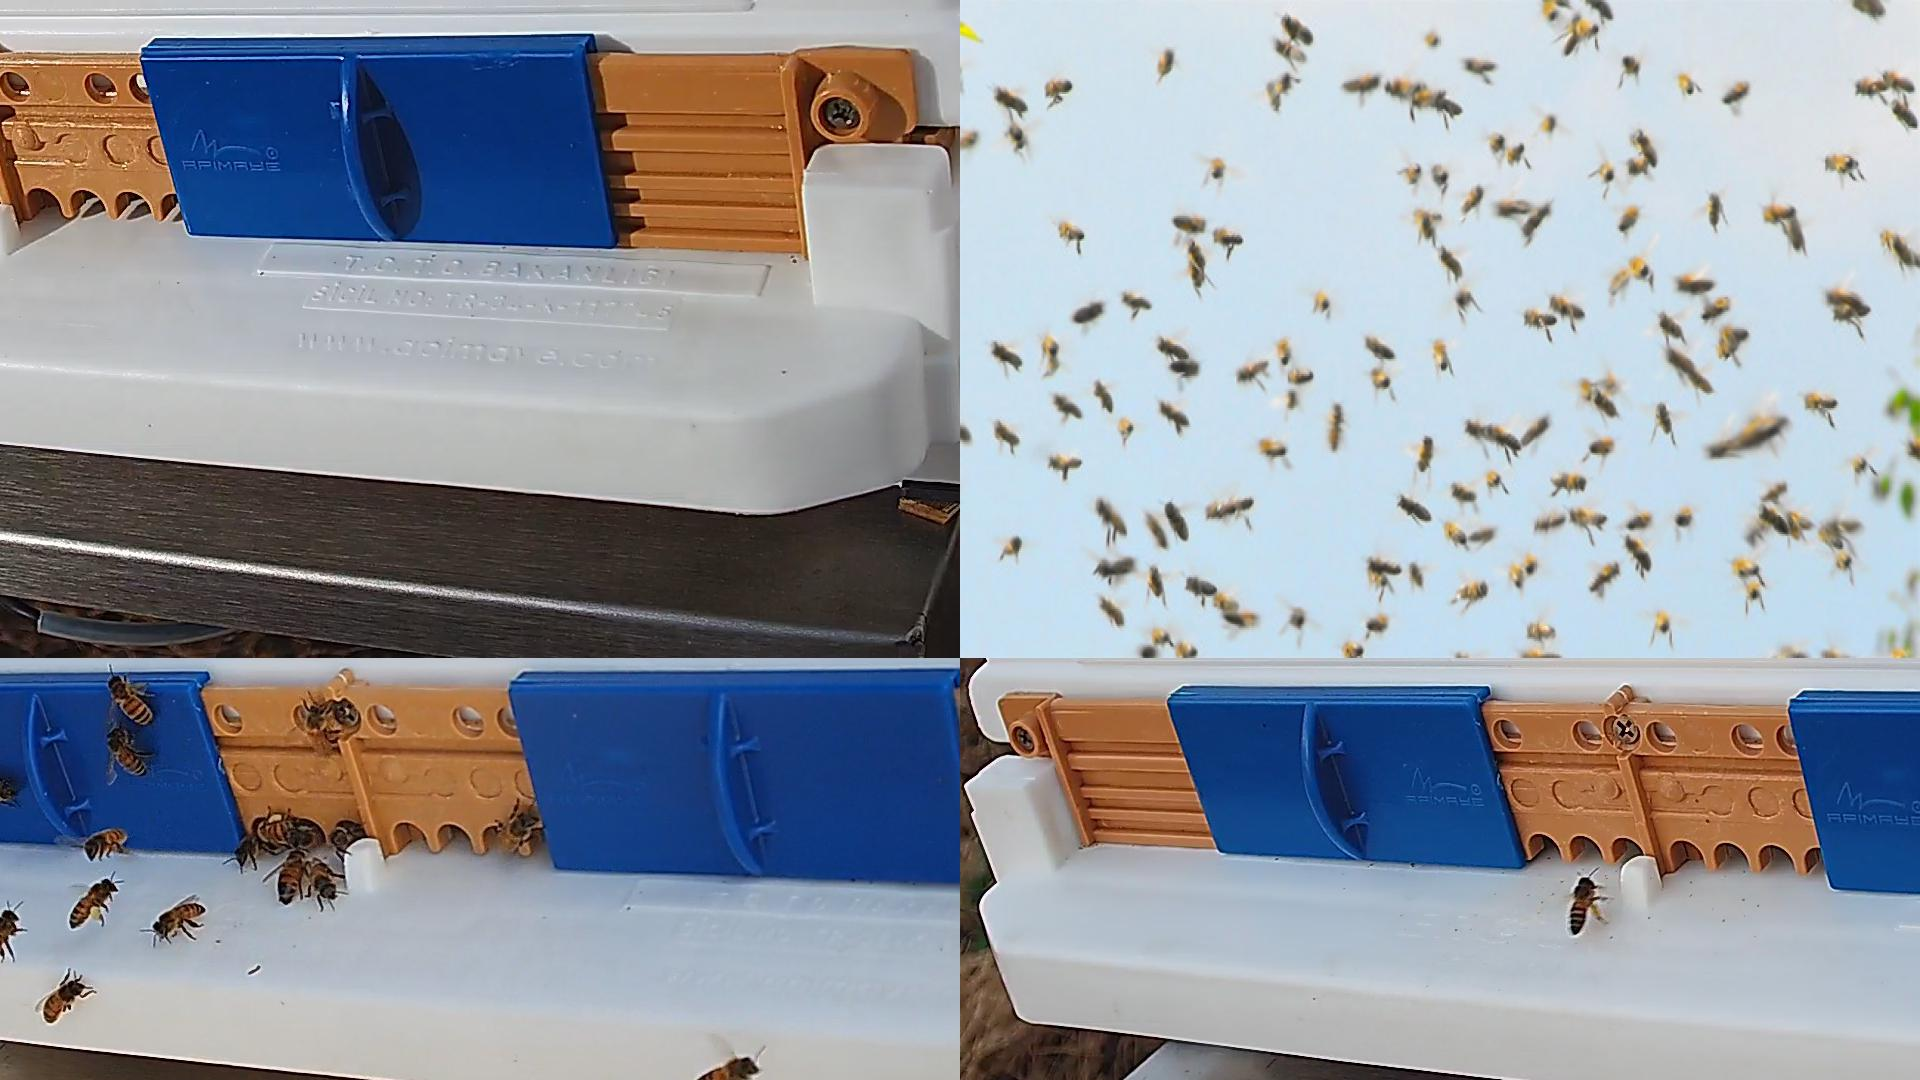bee: (107, 675, 152, 723), (105, 725, 146, 773), (493, 808, 539, 848), (277, 849, 309, 903), (153, 905, 202, 936), (45, 984, 83, 1022), (306, 703, 334, 756), (303, 858, 340, 898), (86, 828, 128, 860), (694, 1058, 757, 1079), (1882, 229, 1917, 266), (328, 819, 368, 849), (0, 907, 20, 967), (1097, 497, 1126, 534), (282, 824, 323, 849), (236, 829, 272, 857), (1623, 535, 1651, 570), (1751, 414, 1788, 439), (1828, 291, 1871, 313), (1683, 367, 1714, 394), (1164, 502, 1187, 541), (1283, 13, 1312, 42), (1758, 505, 1787, 534), (1590, 562, 1619, 591), (1523, 414, 1551, 444), (1709, 435, 1749, 456), (1461, 422, 1498, 444), (1720, 327, 1747, 356), (1158, 400, 1189, 425), (1486, 426, 1519, 450), (1100, 595, 1124, 628), (1156, 339, 1191, 361), (994, 87, 1029, 109), (1399, 497, 1431, 521), (1563, 15, 1581, 54), (1523, 204, 1548, 233), (1365, 335, 1394, 360), (1269, 74, 1294, 103), (1892, 102, 1917, 131), (1188, 244, 1205, 286), (1821, 518, 1863, 535), (1146, 514, 1167, 549), (1883, 70, 1915, 92), (1096, 558, 1131, 578), (1441, 245, 1462, 278), (1383, 80, 1420, 99), (1222, 497, 1254, 518), (994, 343, 1022, 367), (1665, 348, 1693, 372), (1055, 394, 1083, 418), (1551, 473, 1586, 492), (1571, 510, 1606, 529), (1722, 80, 1750, 104), (1549, 297, 1582, 316), (1095, 380, 1114, 413), (1804, 390, 1837, 410), (1044, 336, 1062, 373), (1822, 156, 1857, 174), (1593, 393, 1618, 418), (1704, 297, 1730, 320), (1524, 307, 1556, 327), (1636, 135, 1656, 166), (1461, 185, 1482, 214), (1535, 513, 1564, 534), (1655, 401, 1673, 434), (1185, 575, 1216, 595), (1345, 74, 1379, 91), (1237, 361, 1269, 380), (1275, 41, 1303, 62), (1785, 512, 1804, 543), (1747, 518, 1768, 546), (1585, 0, 1613, 21), (1855, 79, 1888, 96), (1329, 404, 1341, 451), (994, 421, 1018, 444), (1850, 0, 1886, 16), (1836, 305, 1861, 327), (1764, 202, 1795, 220), (1788, 510, 1815, 531), (1618, 206, 1638, 233), (1073, 302, 1101, 322), (1051, 454, 1083, 471), (1457, 582, 1489, 599), (1787, 220, 1805, 249), (1168, 360, 1197, 378), (1659, 315, 1683, 338), (1590, 434, 1615, 455), (1447, 522, 1468, 547), (1125, 291, 1151, 311), (1418, 90, 1444, 109), (1226, 612, 1257, 629), (1258, 438, 1286, 456), (1433, 340, 1449, 372), (1729, 559, 1760, 575), (1418, 436, 1432, 471), (1760, 480, 1787, 498), (1449, 483, 1476, 501), (1544, 0, 1571, 18), (1174, 216, 1207, 231), (1464, 58, 1497, 73), (1440, 98, 1464, 117), (1207, 500, 1232, 518), (1627, 512, 1652, 530), (1213, 591, 1238, 609), (1213, 229, 1242, 245), (1528, 624, 1555, 641), (1432, 164, 1449, 190), (1418, 211, 1433, 239), (1147, 566, 1163, 593), (1369, 559, 1402, 572), (1059, 223, 1084, 240), (1007, 123, 1025, 148), (1609, 272, 1630, 291), (1825, 525, 1844, 547), (1708, 193, 1720, 227), (1370, 368, 1389, 389), (1043, 79, 1072, 92), (1681, 280, 1713, 291), (1631, 257, 1650, 277), (1675, 508, 1695, 526), (1369, 568, 1389, 587), (1408, 562, 1423, 587), (1159, 49, 1174, 74), (0, 778, 15, 803), (1655, 611, 1672, 632), (1404, 162, 1420, 185), (1495, 202, 1528, 212), (1290, 368, 1313, 382), (1290, 607, 1307, 626), (1456, 287, 1472, 309), (1509, 142, 1524, 164), (1175, 642, 1197, 657), (1486, 468, 1501, 489), (1626, 160, 1647, 174), (1278, 339, 1290, 364), (1578, 378, 1590, 404), (1470, 530, 1495, 542), (1004, 537, 1022, 553), (960, 132, 978, 148), (1580, 25, 1597, 41), (1315, 293, 1329, 311), (1511, 564, 1523, 587), (1151, 630, 1171, 644), (1680, 74, 1693, 94), (1212, 157, 1225, 177), (1834, 554, 1850, 570), (1622, 58, 1639, 73), (1598, 161, 1613, 178), (1851, 458, 1867, 472), (1367, 618, 1385, 632), (1286, 389, 1296, 410), (1344, 645, 1365, 655), (1605, 368, 1614, 392), (1542, 113, 1553, 132), (1117, 419, 1131, 434), (960, 425, 971, 444), (1526, 554, 1538, 571), (1491, 135, 1503, 152), (1138, 646, 1156, 657), (1747, 583, 1759, 597), (1427, 32, 1439, 45)
pollenbee: (71, 880, 115, 927), (1572, 878, 1602, 935), (257, 812, 299, 839)
